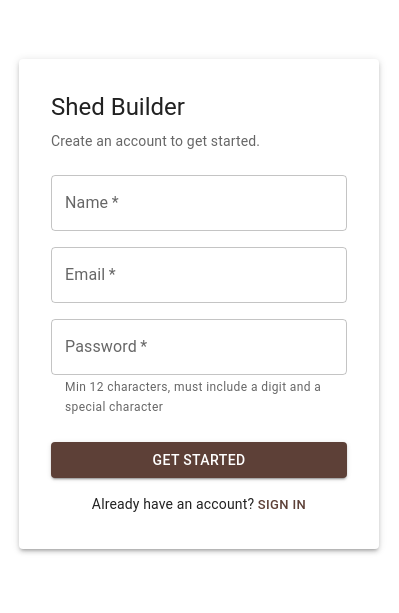
App › shows error on registration failure
The width and height of the screenshot is (399, 613).
Type "Jane" into the field labelled "Name *" at point(199, 203), box [51,175,347,231]
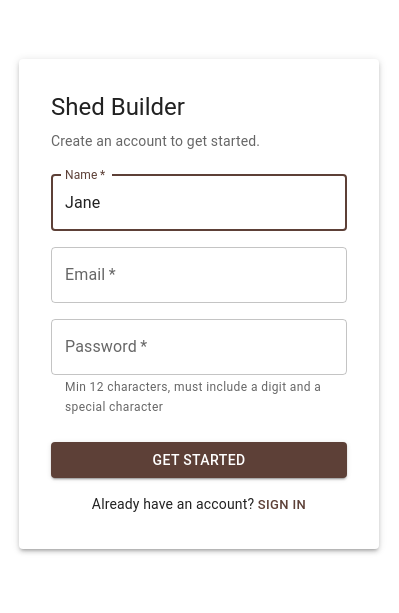
Type "jane@example.com" into the field labelled "Email *" at point(199, 275), box [51,247,347,303]
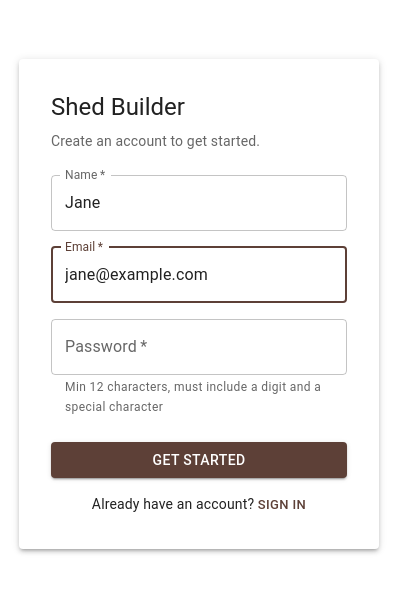
Type "Str0ng!Pass123" into the password field labelled "Password *" at point(199, 347), box [51,319,347,375]
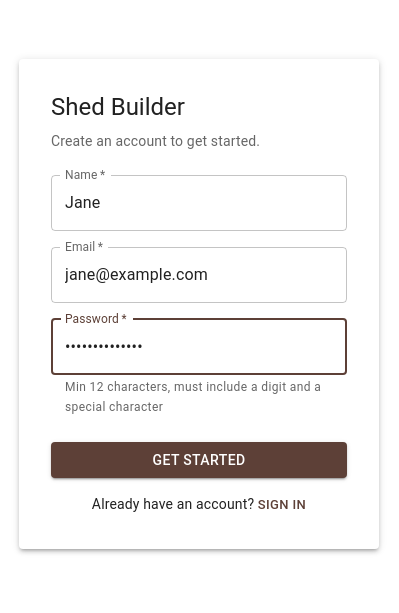
Click the button "Get Started" at point(199, 460), box [51,442,347,478]
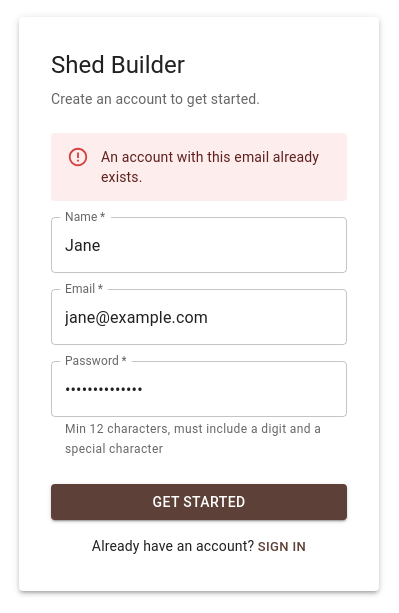
Expected: the text "An account with this email already exists." is shown, [101,139,331,195]
